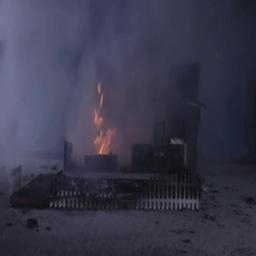fire: (81, 78, 126, 160)
smoke: (0, 0, 196, 99)
